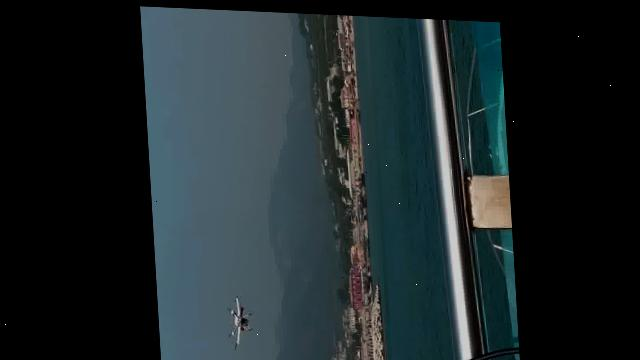drone: (219, 286, 253, 351)
